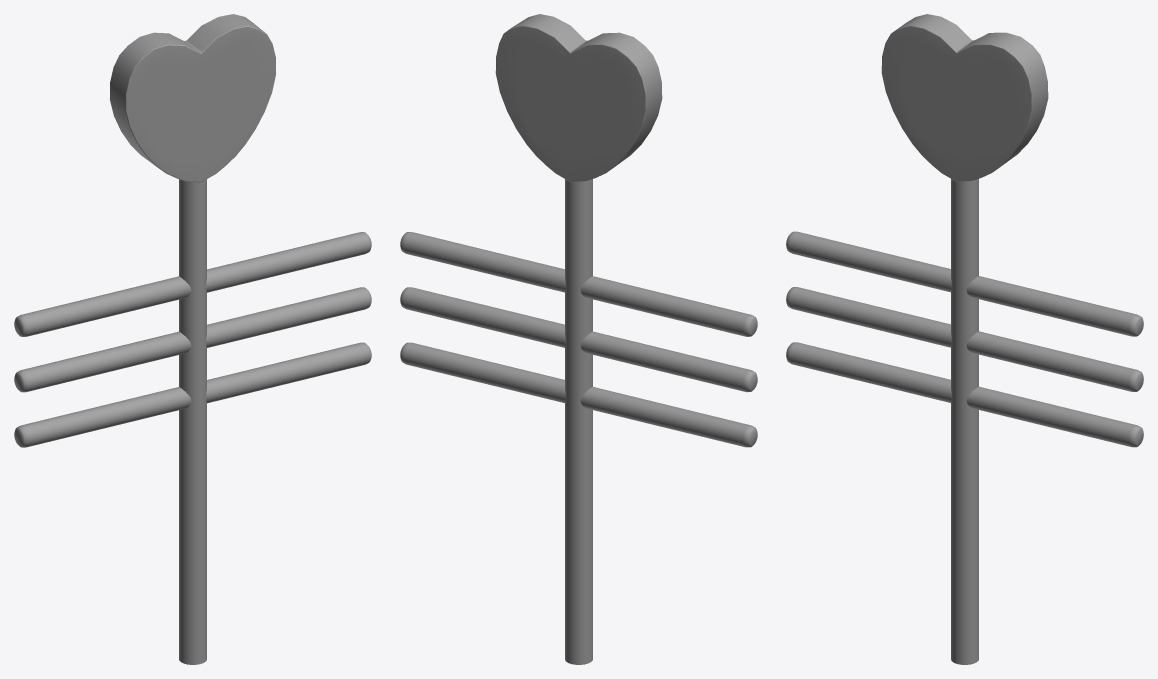
File: Farm_18_Antenna_1.glb
3 views of the same model, side by side, from view 1: azimuth 30°, elevation 25°; view 2: azimuth 150°, elevation 25°; view 3: azimuth 330°, elevation 25° (orthographic).
Visible parts, largest first — view 1: Farm_18_Antenna_1; view 2: Farm_18_Antenna_1; view 3: Farm_18_Antenna_1.
Part boxes in pixels (x1,y1,x2,y2): Farm_18_Antenna_1: (14, 14, 371, 664); Farm_18_Antenna_1: (400, 14, 757, 664); Farm_18_Antenna_1: (786, 14, 1143, 664).
Bounding box in the file's own units: 1.44 × 2.47 × 0.1179.
Materials: 1 (1 with a texture image).
